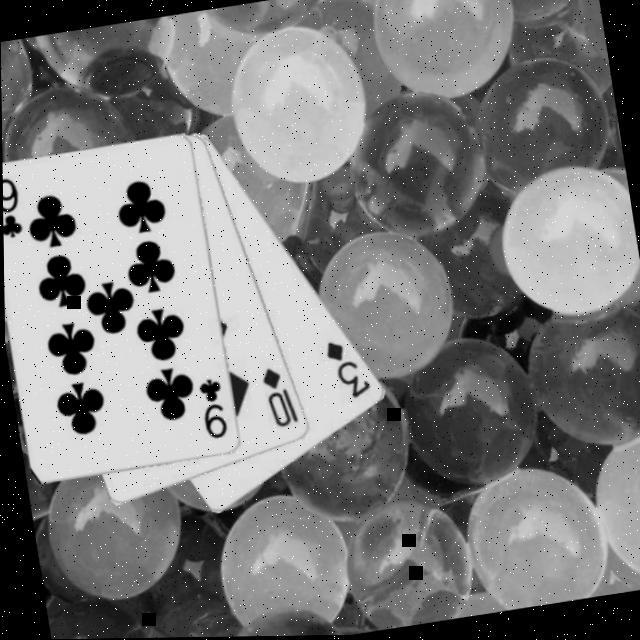10D: (255, 362, 301, 432)
3D: (318, 332, 374, 406)
9C: (193, 373, 230, 442), (2, 173, 26, 242)
